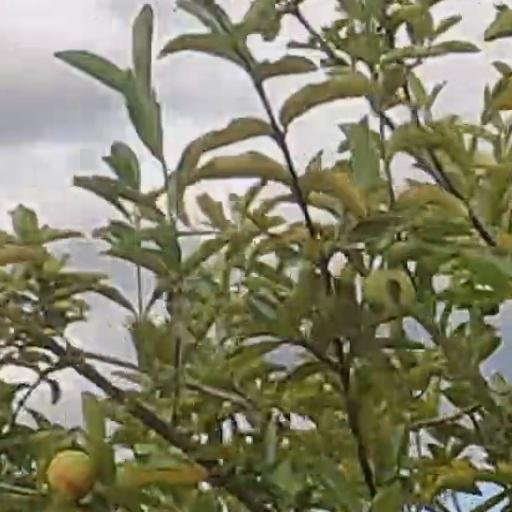acerola: (46, 449, 93, 495), (365, 271, 416, 310)
